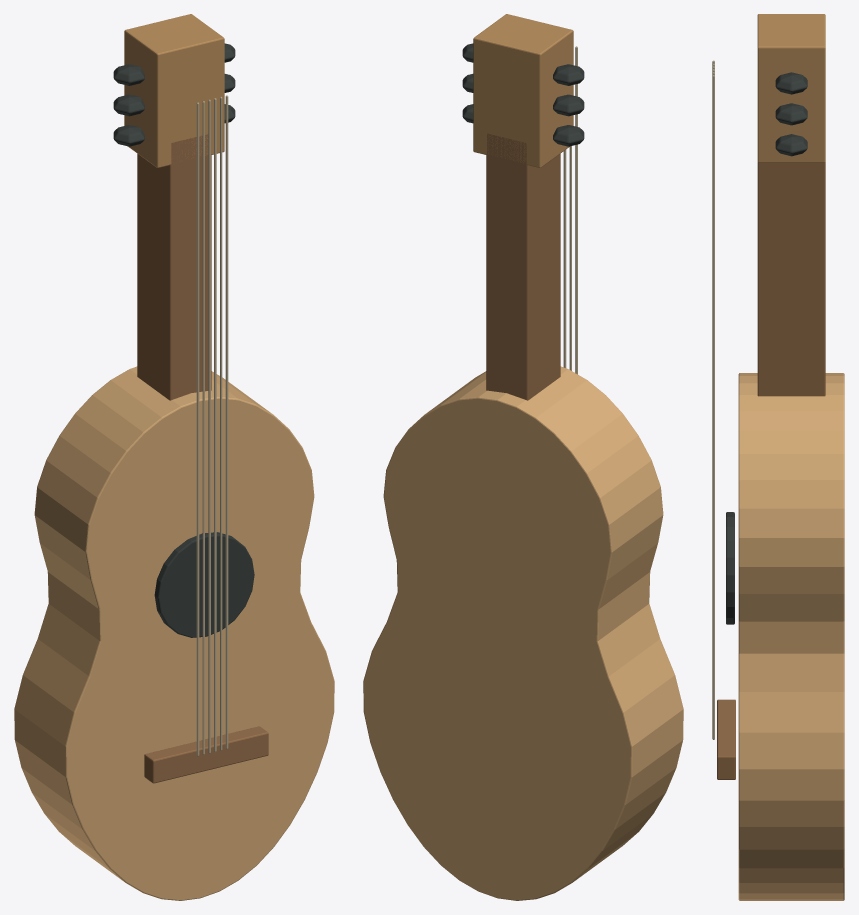
The model's file is SM_RelaxedNeighborHouse_Guitar.fbx.
3 views of the same model, side by side, from view 1: azimuth 30°, elevation 25°; view 2: azimuth 150°, elevation 25°; view 3: azimuth 270°, elevation 25° (orthographic).
Visible parts, largest first — view 1: SM_RelaxedNeighborHouse_Guitar; view 2: SM_RelaxedNeighborHouse_Guitar; view 3: SM_RelaxedNeighborHouse_Guitar.
Boxes of the visible parts, <box> form: SM_RelaxedNeighborHouse_Guitar: <box>14,14,334,900</box>; SM_RelaxedNeighborHouse_Guitar: <box>363,14,683,900</box>; SM_RelaxedNeighborHouse_Guitar: <box>712,14,844,900</box>.
Bounding box in the file's own units: 41.8 × 17.48 × 126.
